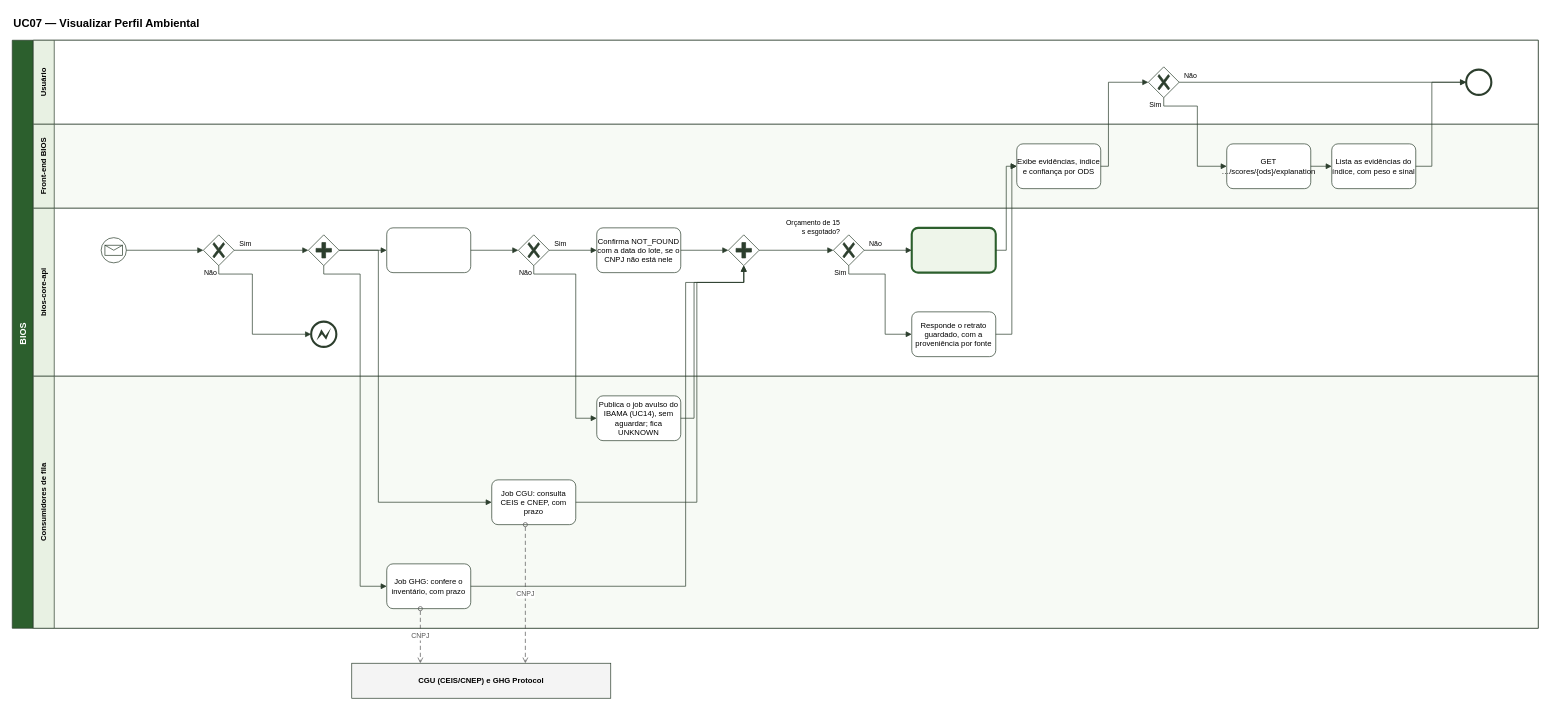
The diagram is 1551 pixels wide and 711 high, and some of its shapes have lost their labels. The shapes that lost their labels are listed below. From the top down, each one's centre as x and y in pixels, then its label:
[1163,82]: Quer a explicação?
[1478,82]: Perfil exibido
[113,250]: Empresa localizada (UC06)
[218,250]: Há perfil cadastral local?
[428,250]: Lê o índice local do IBAMA
[533,250]: Lote completo válido?
[953,249]: Recalcular índice e confiança (UC15)
[323,334]: 404, sem coleta
